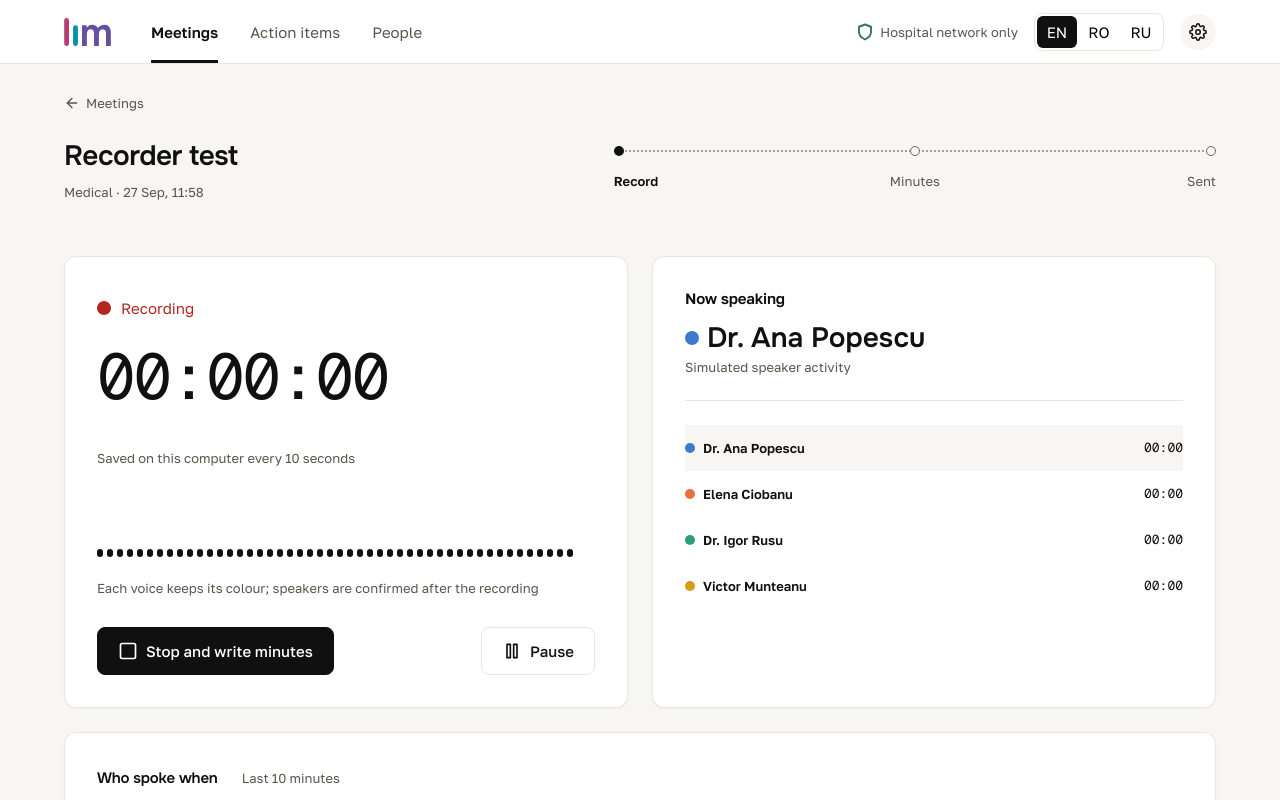
it: supports automatic recording inside React StrictMode and recovers after refresh
The width and height of the screenshot is (1280, 800).
Expected: the button "Stop and write minutes" is enabled, left=97, top=627, right=334, bottom=675
Click the button "Pause" at (538, 651), box left=481, top=627, right=595, bottom=675
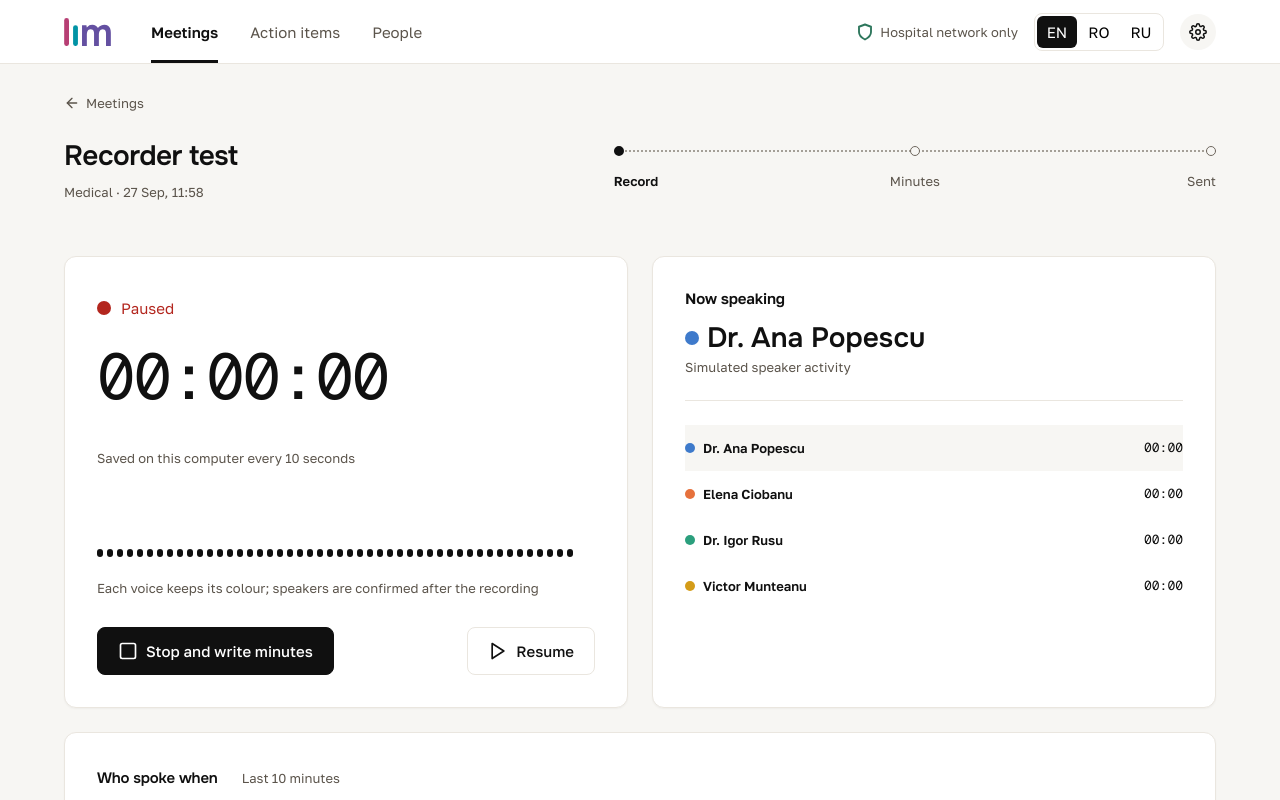
Now the button "Resume" is shown
Click the button "Resume" at (531, 651), box left=467, top=627, right=595, bottom=675
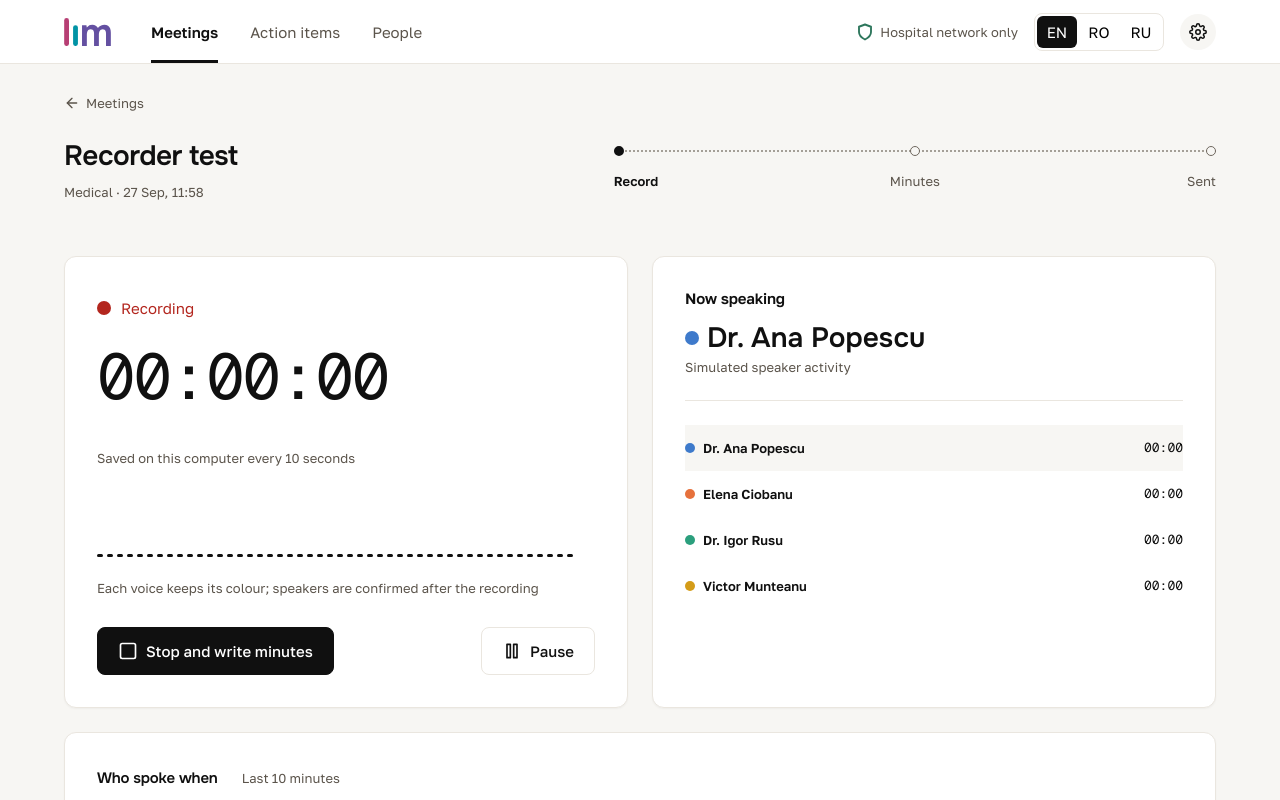
Now the button "Pause" is shown, box left=481, top=627, right=595, bottom=675
Click the button "Stop and write minutes" at (215, 651), box left=97, top=627, right=334, bottom=675
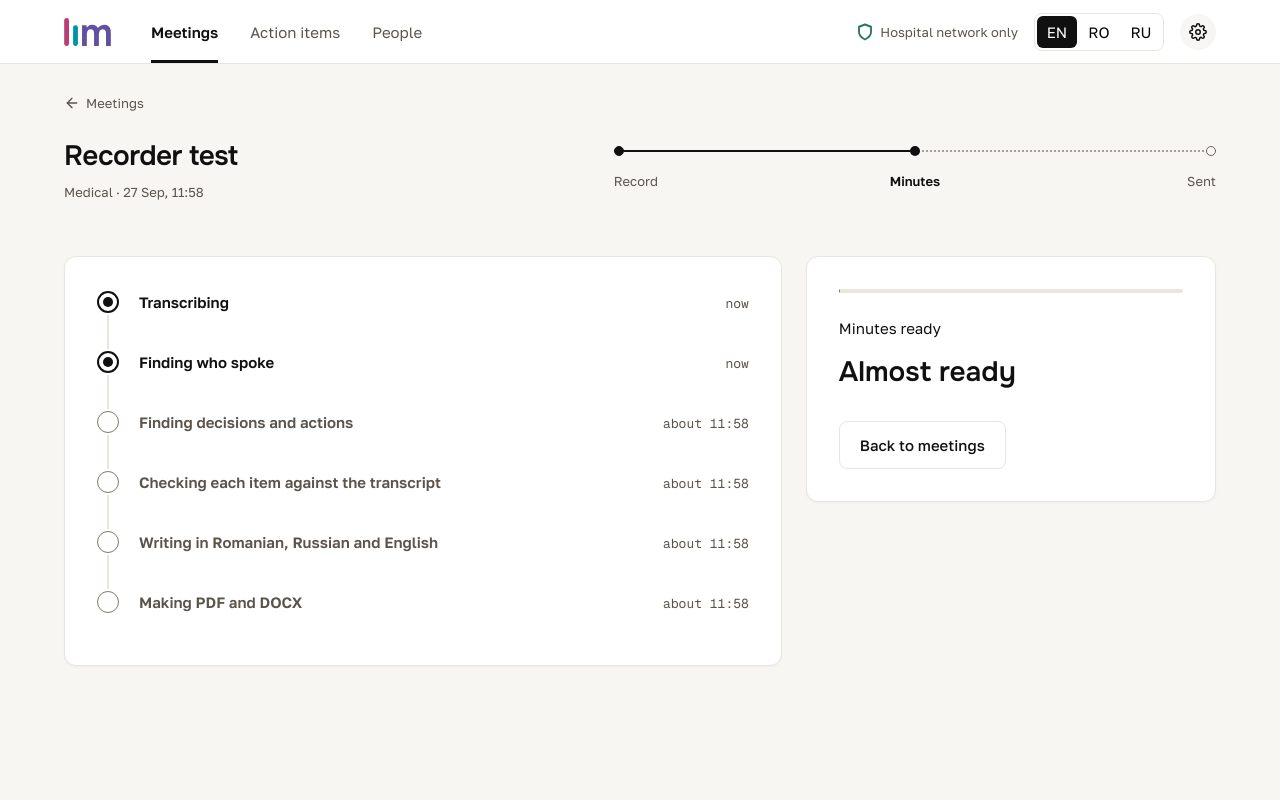
Now the text "Transcribing" is shown, box left=139, top=293, right=229, bottom=311
